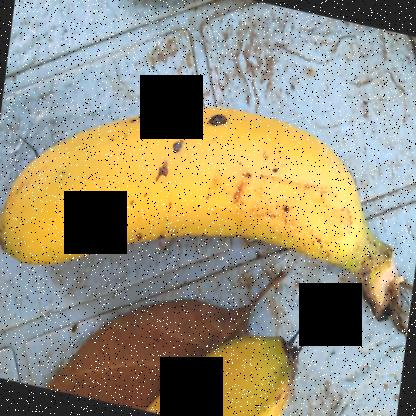ripe: (0, 26, 377, 309)
